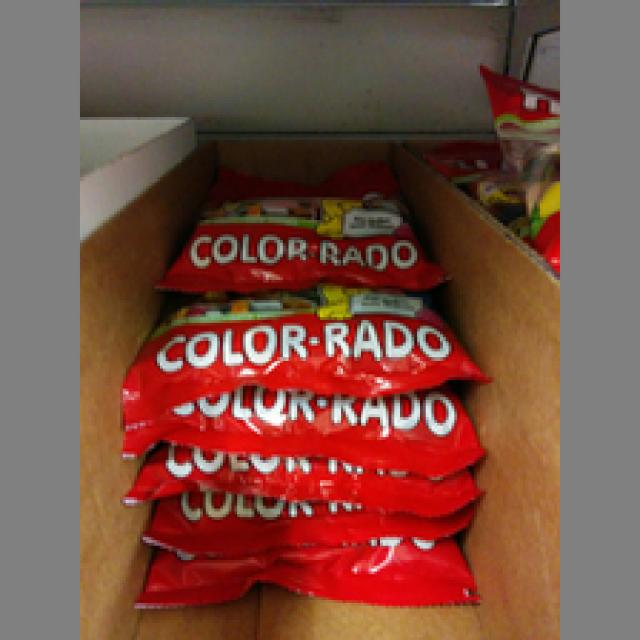groceries: (172, 137, 428, 272)
